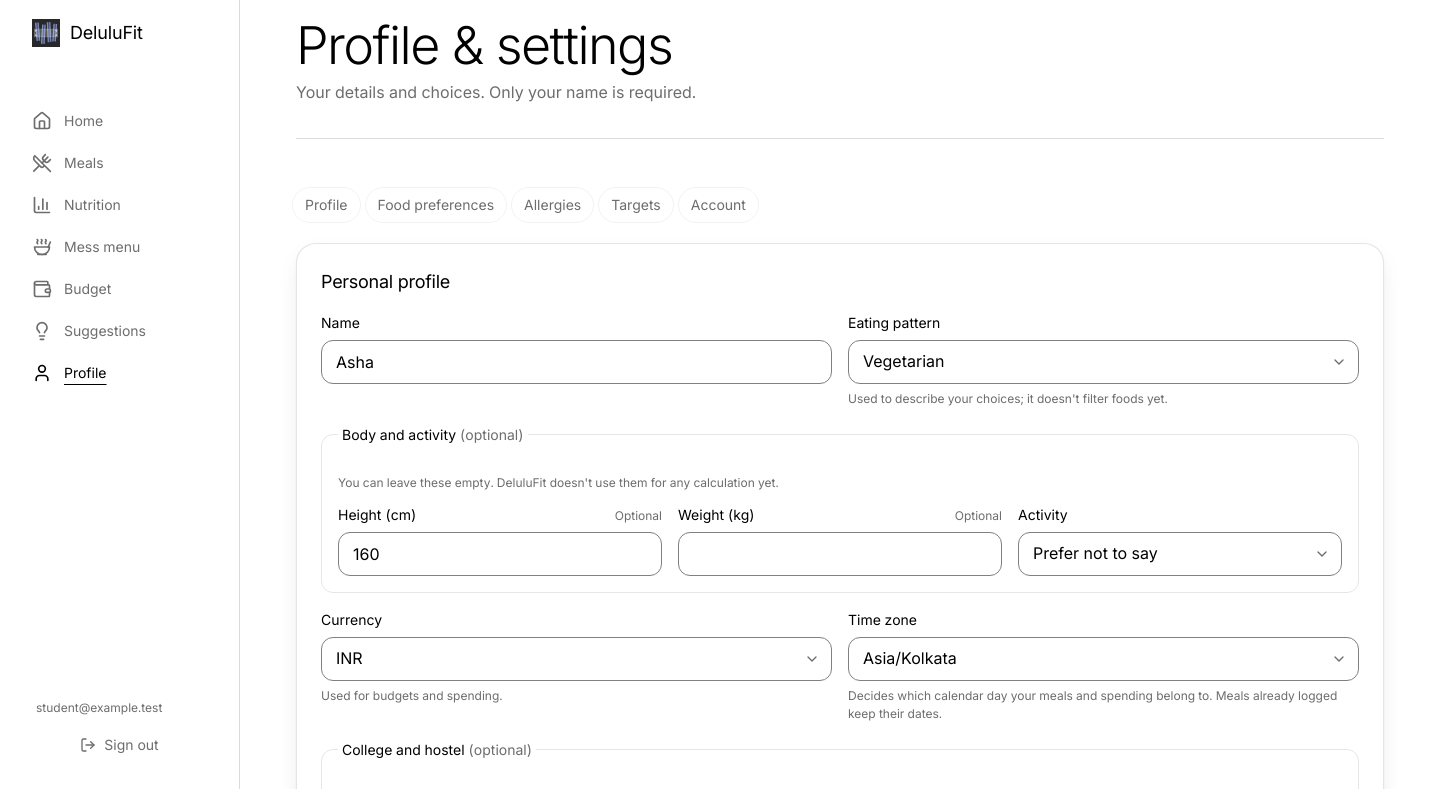
Test: personal profile › validates before sending anything
Clear the field labelled "Name" at (576, 362), box [321, 340, 832, 384]
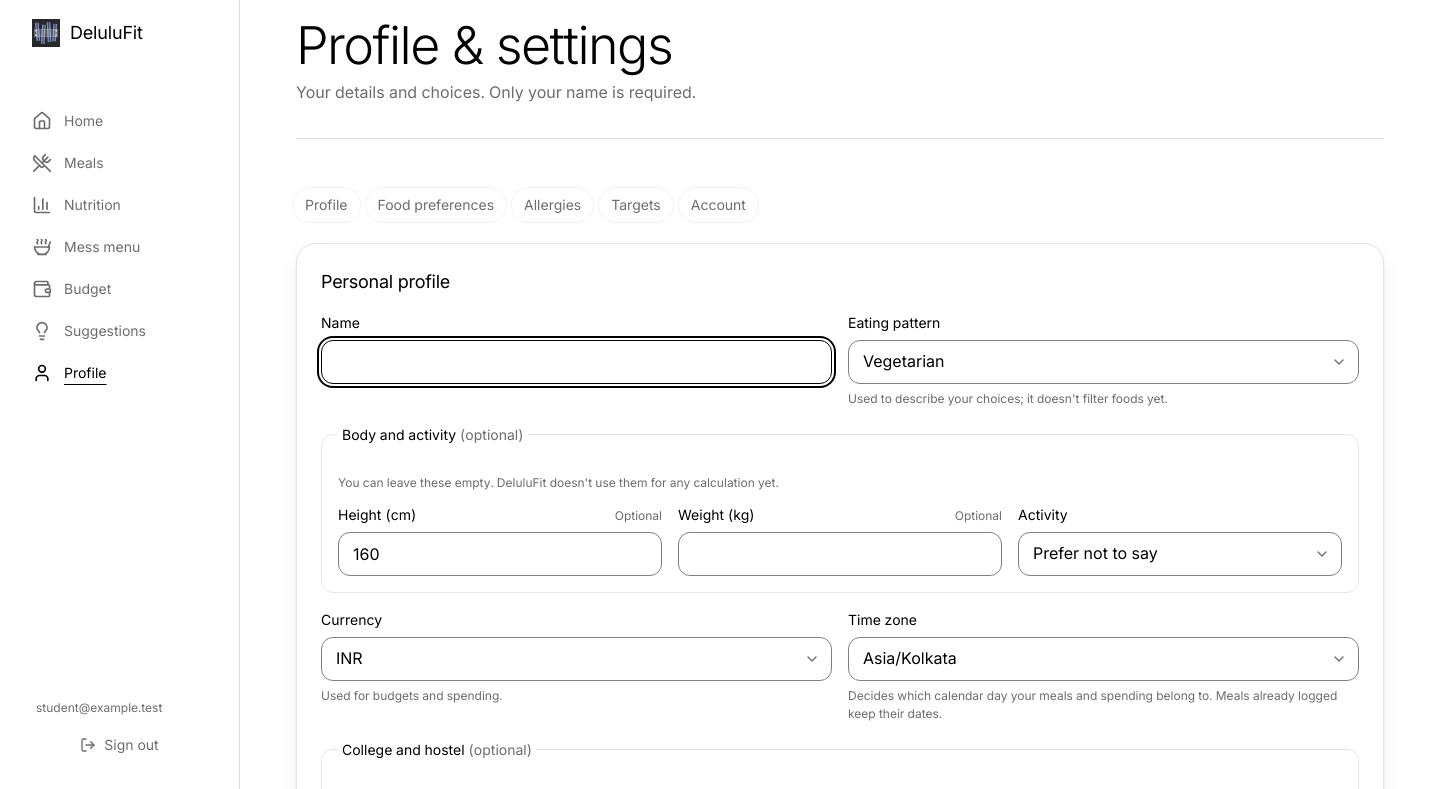
Replace the text in the field labelled "Height (cm) Optional" with "20" at (500, 554), box [338, 532, 662, 576]
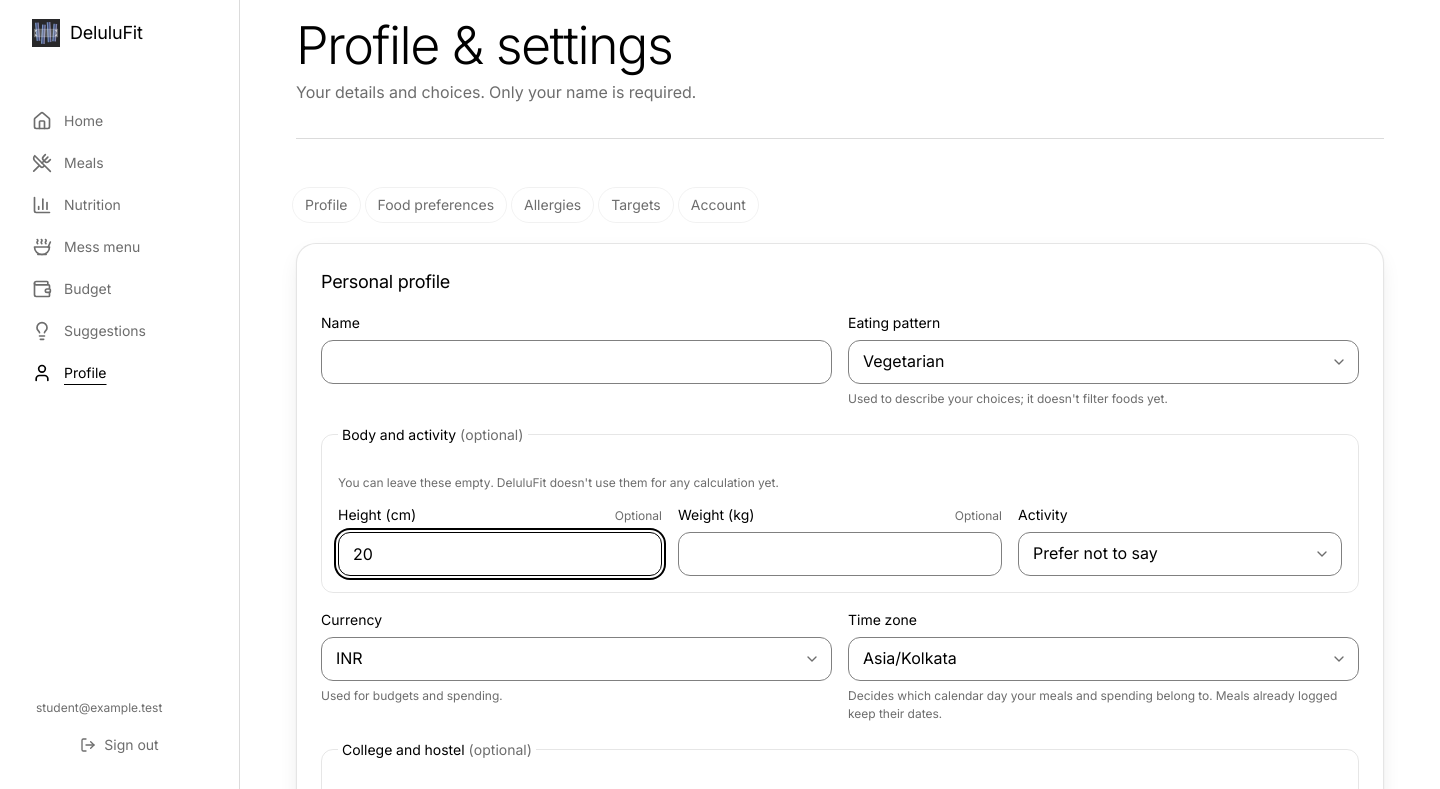
Type "55.55" into the field labelled "Weight (kg) Optional" at (840, 554), box [678, 532, 1002, 576]
(page scrolled)
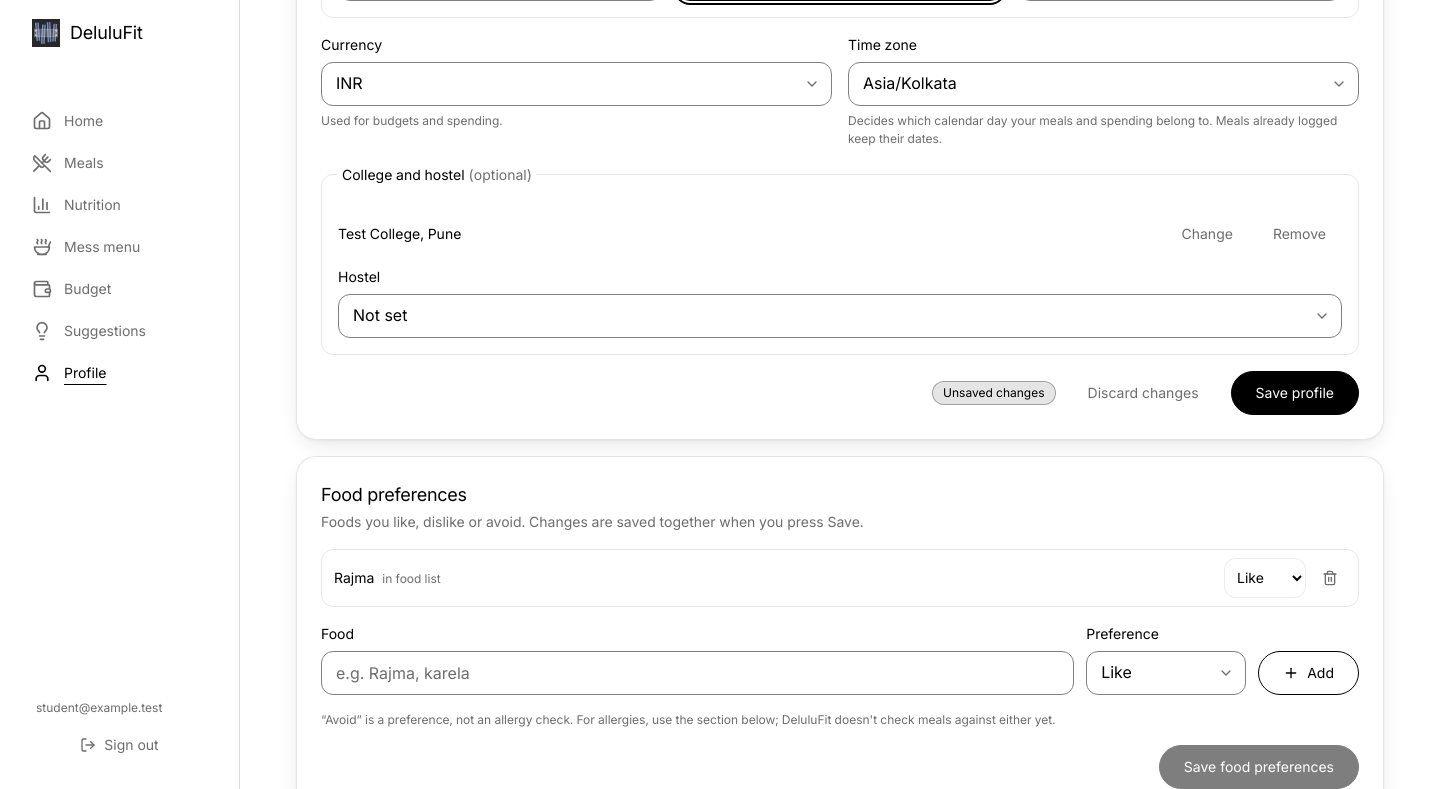
Click the button "Save profile" at (1295, 393), box [1230, 371, 1359, 415]
(page scrolled)
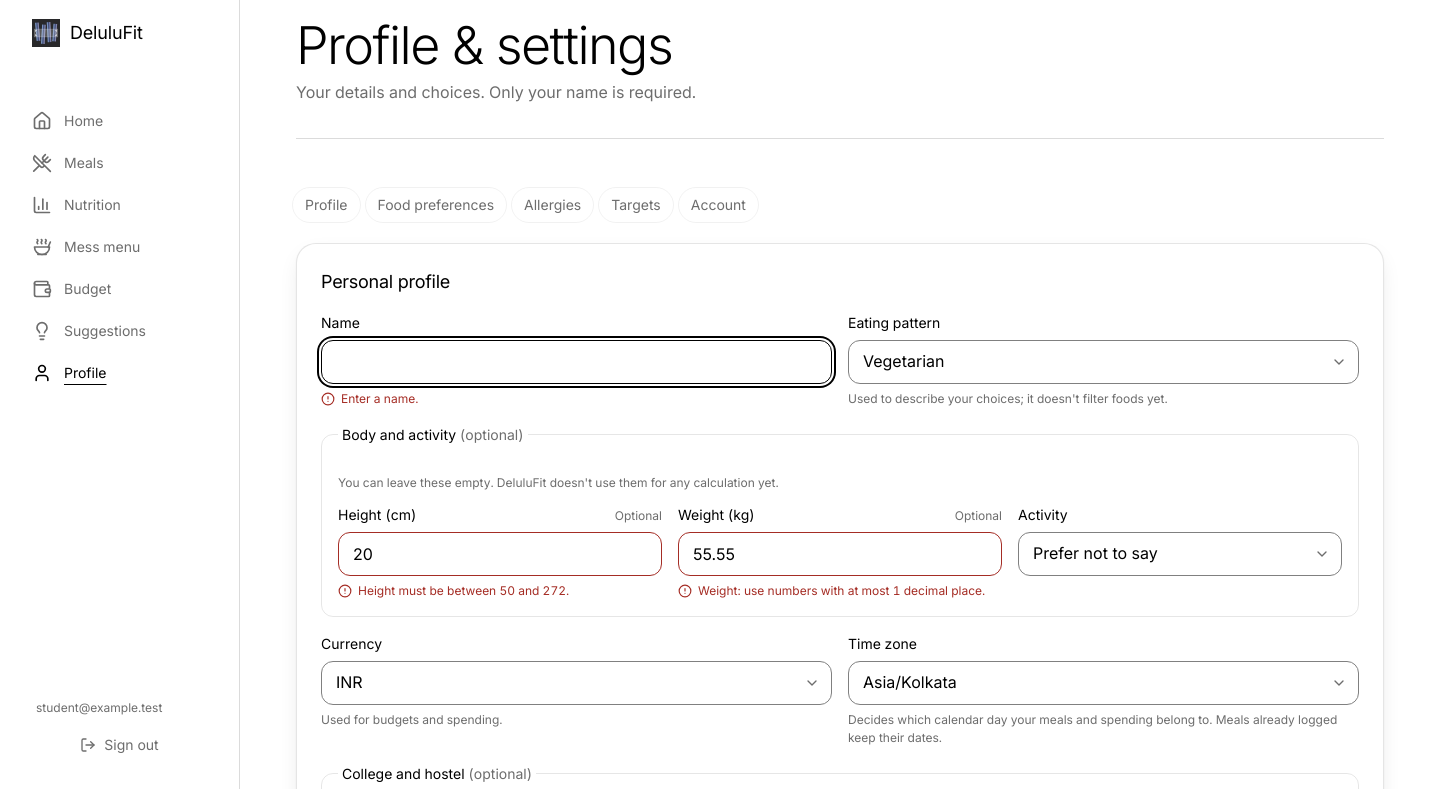
expect the text "Enter a name." is shown: met, box [321, 391, 418, 406]
expect the text "Height must be between 50 and 272." is shown: met, box [338, 583, 569, 598]
expect the text "Weight: use numbers with at most 1 decimal place." is shown: met, box [678, 582, 1002, 600]
